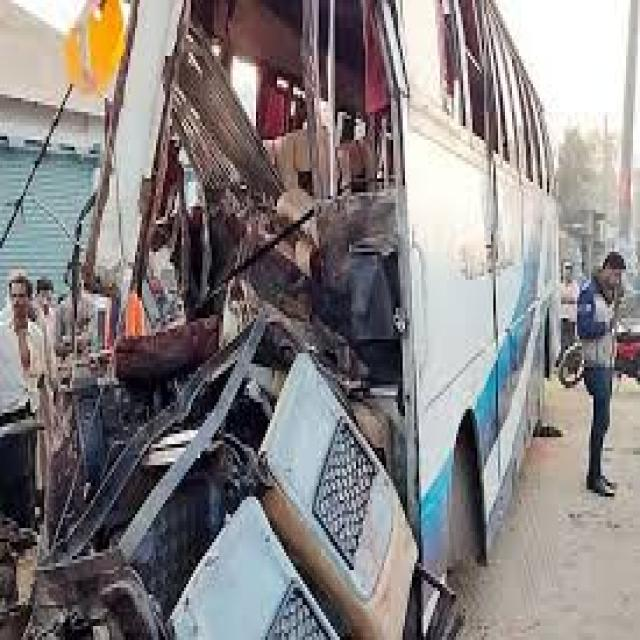Accident: (1, 0, 560, 640)
